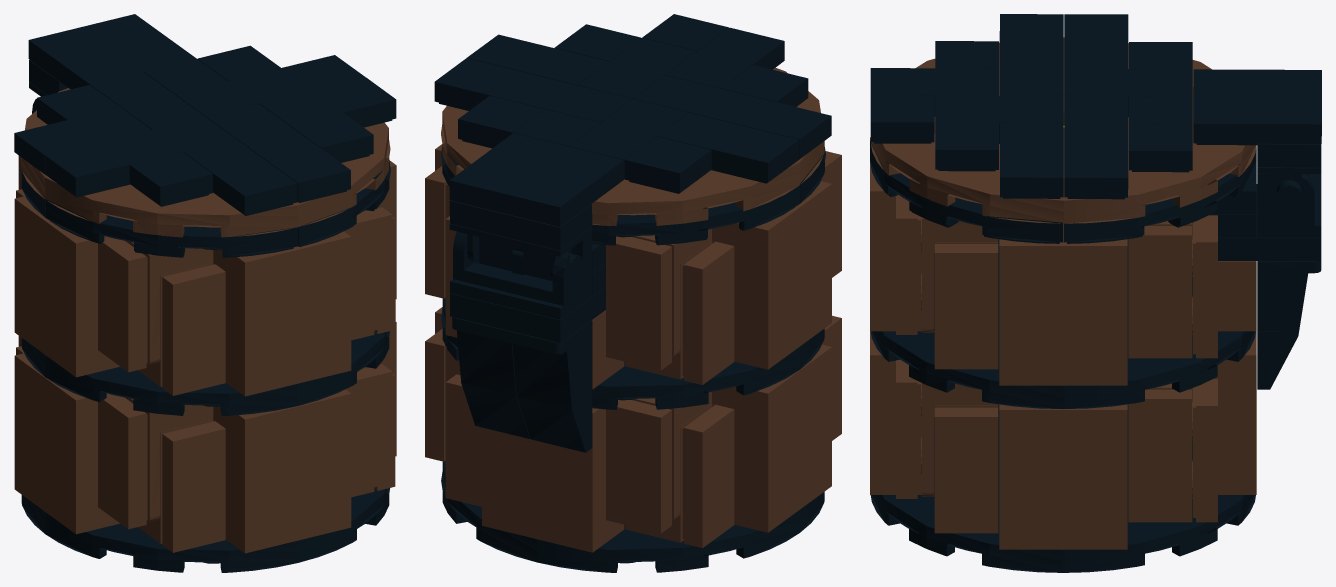
Rendered from Tonneau.fbx.
3 views of the same model, side by side, from view 1: azimuth 30°, elevation 25°; view 2: azimuth 150°, elevation 25°; view 3: azimuth 270°, elevation 25° (orthographic). The views are drawn at different scales.
Parts seen in each view (by area): view 1: BRICK-Part-52, BRICK-Part-99, BRICK-Part-55, BRICK-Part-58; view 2: BRICK-Part-52, BRICK-Part-99, BRICK-Part-55, BRICK-Part-58; view 3: BRICK-Part-52, BRICK-Part-99, BRICK-Part-55, BRICK-Part-58.
Part boxes in pixels (x1,y1,x2,y2): BRICK-Part-52: [14, 156, 396, 553]; BRICK-Part-99: [14, 14, 396, 215]; BRICK-Part-55: [20, 98, 390, 572]; BRICK-Part-58: [21, 88, 390, 237]; BRICK-Part-52: [425, 144, 841, 552]; BRICK-Part-99: [434, 14, 831, 281]; BRICK-Part-55: [441, 147, 825, 572]; BRICK-Part-58: [441, 67, 824, 226]; BRICK-Part-52: [870, 137, 1256, 549]; BRICK-Part-99: [870, 14, 1321, 208]; BRICK-Part-55: [870, 140, 1321, 572]; BRICK-Part-58: [871, 37, 1256, 223].
Size of the model in its own units: 189 by 213 by 220.
